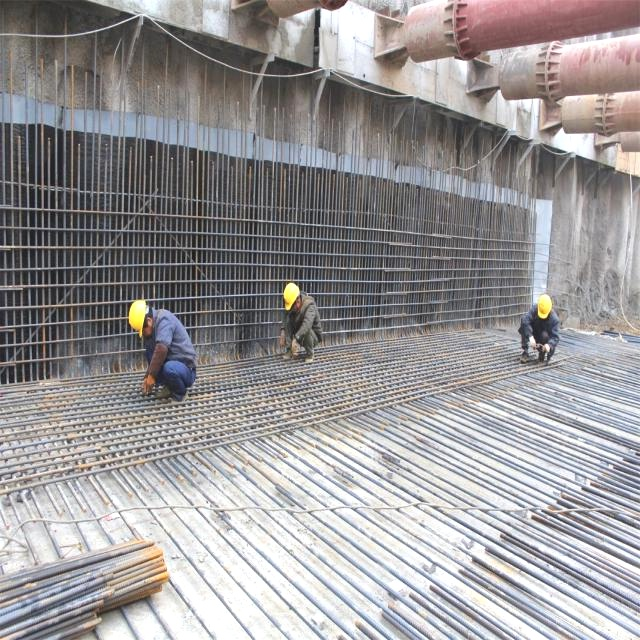Con_Casco: (130, 297, 150, 335), (284, 282, 302, 314), (538, 293, 553, 319)
